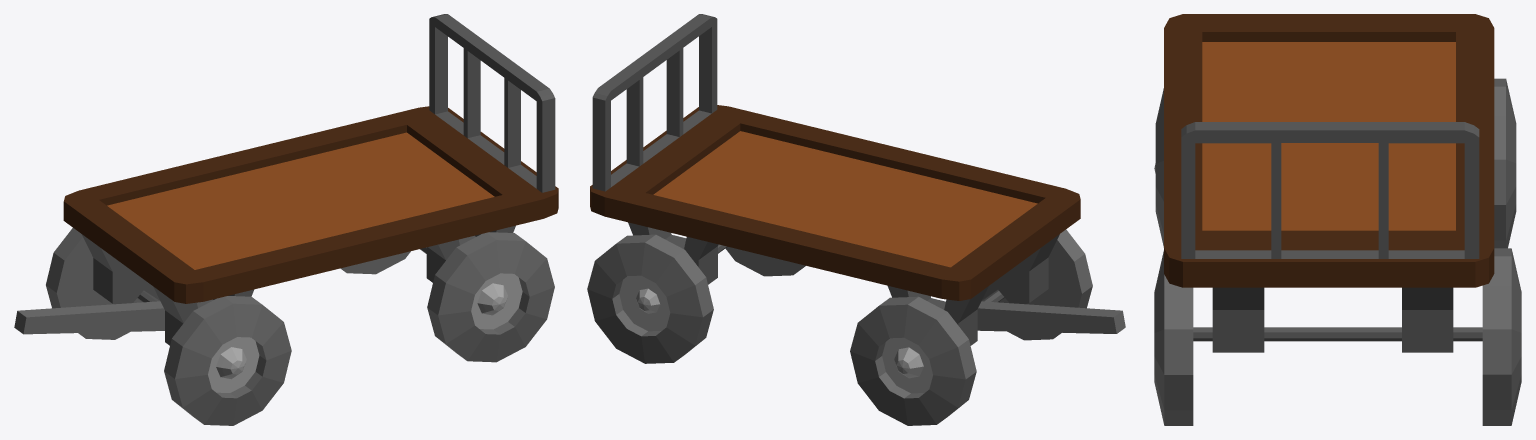
The model's file is trailer.fbx.
3 renders of one model, left to right at view 1: azimuth 30°, elevation 25°; view 2: azimuth 150°, elevation 25°; view 3: azimuth 270°, elevation 25°, orthographic. The views are drawn at different scales.
Parts seen in each view (by area): view 1: Cube.025; view 2: Cube.025; view 3: Cube.025.
Part boxes in pixels (left/top/right/bottom): Cube.025: left=14, top=14, right=558, bottom=425; Cube.025: left=587, top=14, right=1125, bottom=425; Cube.025: left=1154, top=14, right=1521, bottom=425.
Bounding box in the file's own units: 414 × 204 × 207.
